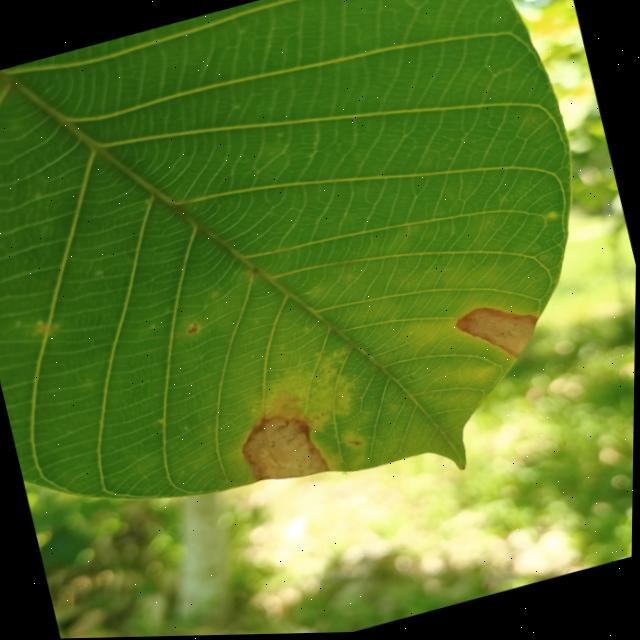Leaf-Blight: (236, 407, 331, 492), (454, 296, 545, 373)
